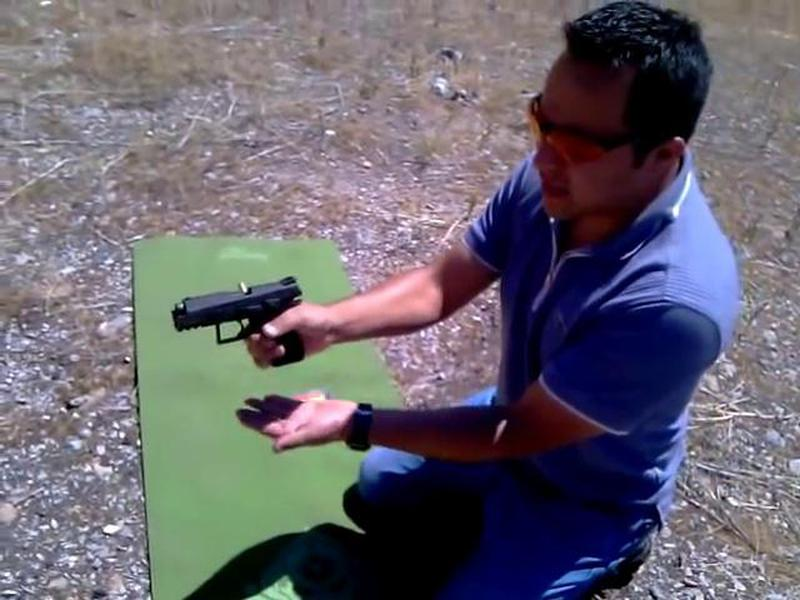Pistola: (175, 275, 315, 378)
